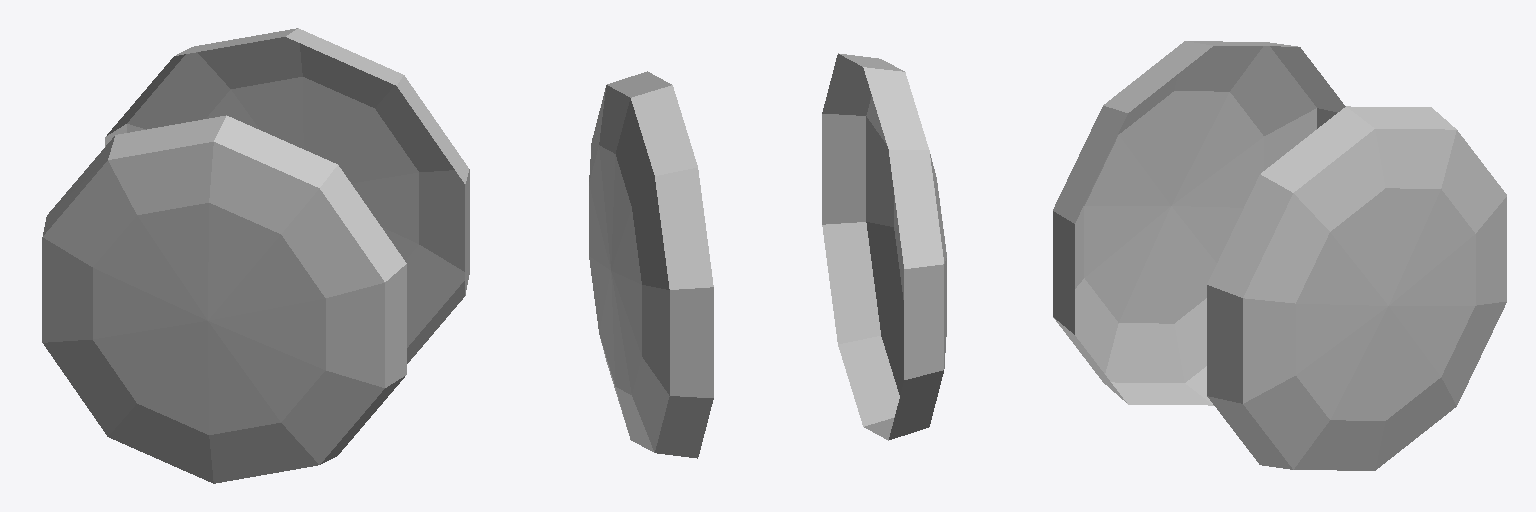
3 renders of one model, left to right at view 1: azimuth 30°, elevation 25°; view 2: azimuth 150°, elevation 25°; view 3: azimuth 270°, elevation 25°, orthographic.
Parts seen in each view (by area): view 1: part3:wheel 3; view 2: part3:wheel 3; view 3: part3:wheel 3.
Boxes of the visible parts, <box> form: part3:wheel 3: <box>42,28,469,483</box>; part3:wheel 3: <box>589,53,946,458</box>; part3:wheel 3: <box>1053,41,1506,470</box>.
Size of the model in its own units: 0.0647 by 0.0571 by 0.0654.